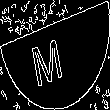M_N: (36, 25, 74, 85)
